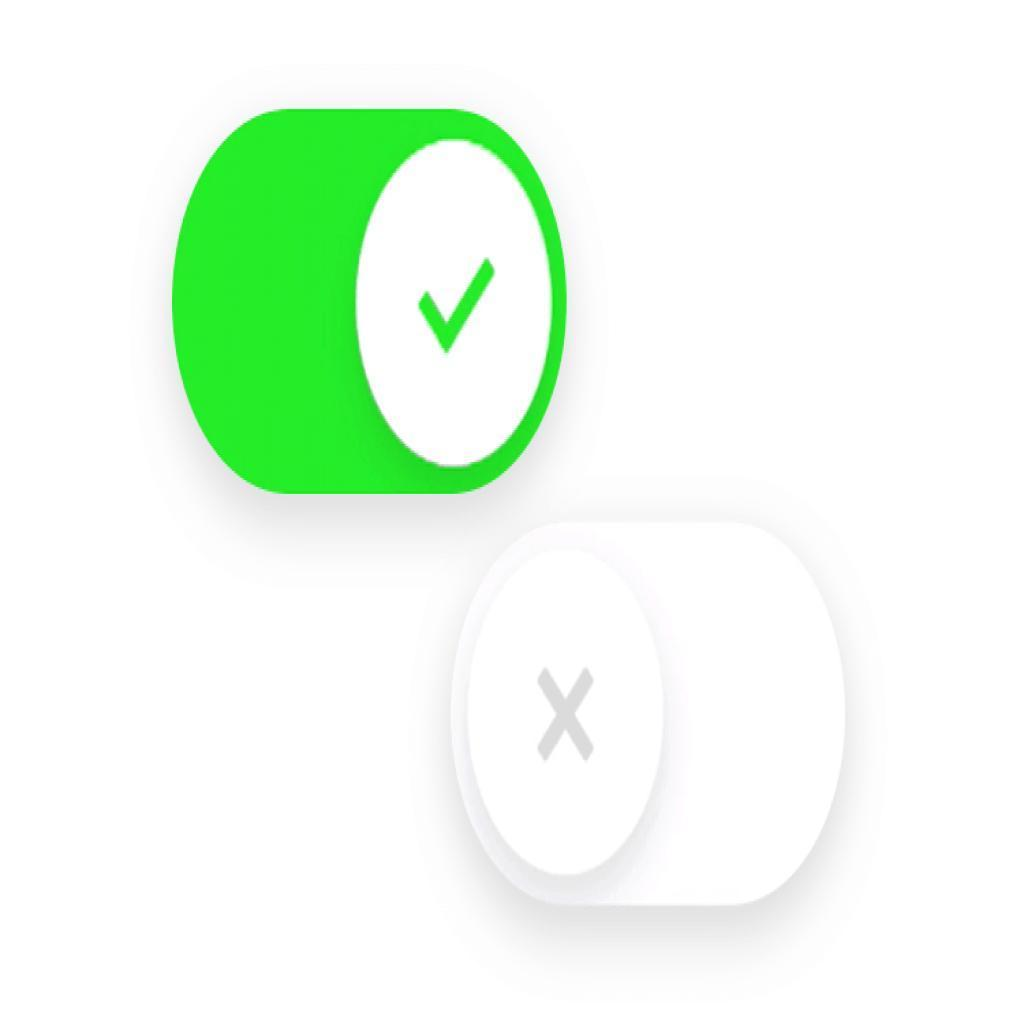switch: (447, 514, 851, 909), (173, 108, 571, 499)
